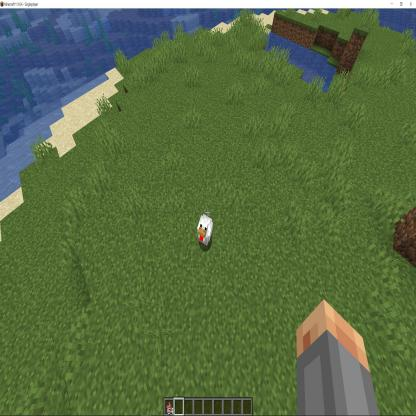minecraft-pigs: (197, 214, 214, 249)
